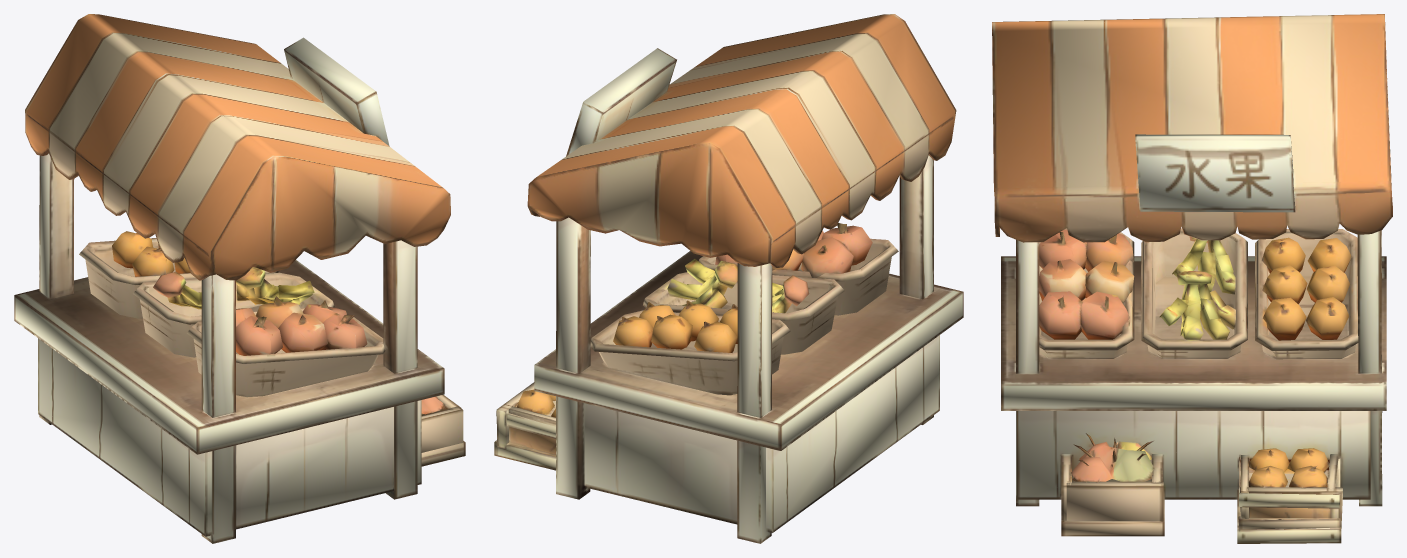
The model's file is 水果摊3d模型.fbx.
3 renders of one model, left to right at view 1: azimuth 30°, elevation 25°; view 2: azimuth 150°, elevation 25°; view 3: azimuth 270°, elevation 25°, orthographic. The views are drawn at different scales.
Parts seen in each view (by area): view 1: meshes[0]; view 2: meshes[0]; view 3: meshes[0].
Boxes of the visible parts, bbox=[...] form: meshes[0]: bbox=[14, 14, 465, 543]; meshes[0]: bbox=[494, 14, 963, 543]; meshes[0]: bbox=[992, 14, 1392, 543].
Bounding box in the file's own units: 0.8301 × 0.998 × 0.8809.
1 material, 1 textured.
